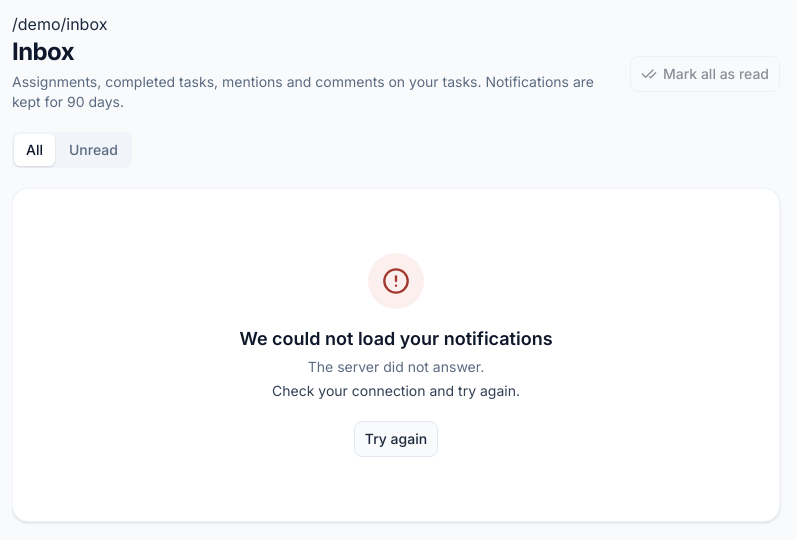
Test: InboxPage › shows an error with a retry
Expected: the heading "We could not load your notifications" is shown, [240,328,553,349]
Click the button "Try again": click(396, 439) [354,421,438,457]
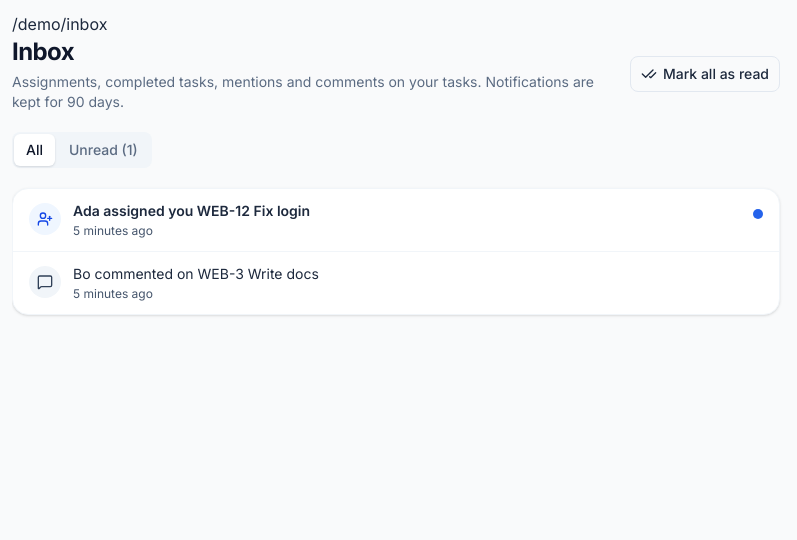
Expected: the text "Ada assigned you WEB-12 Fix login" is shown, [73,202,310,219]
